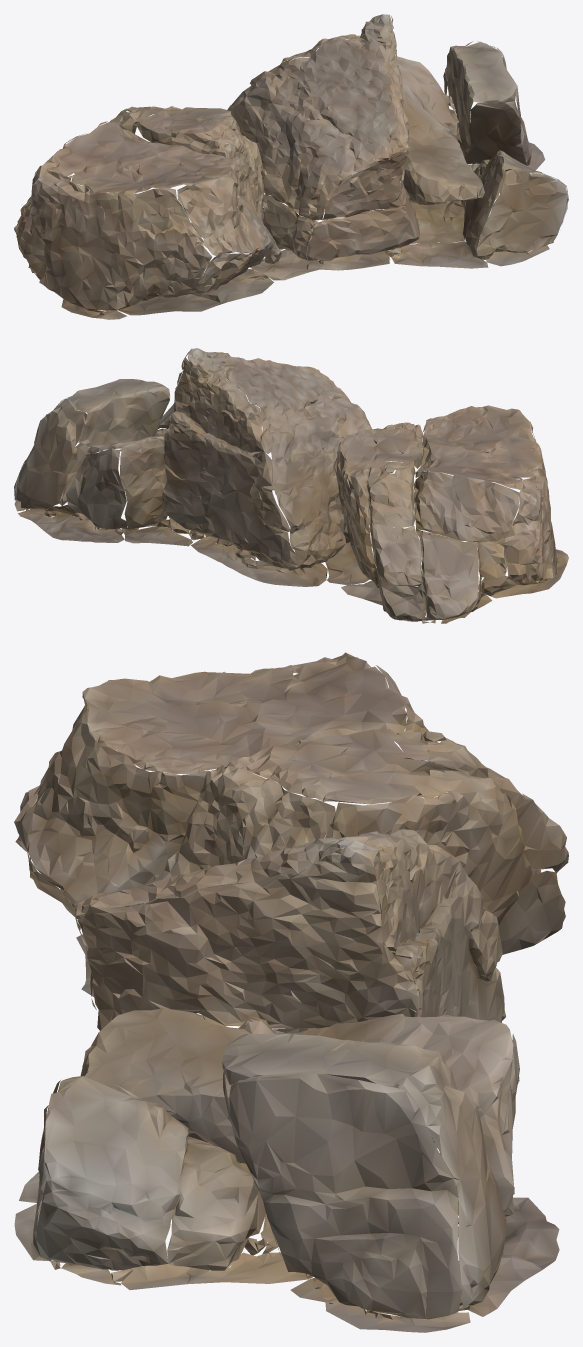
File: namaqualand_boulder_02.glb
The picture shows the model from 3 angles, top to bottom: view 1: azimuth 30°, elevation 25°; view 2: azimuth 150°, elevation 25°; view 3: azimuth 270°, elevation 25°; orthographic projection. The views are drawn at different scales.
Visible parts, largest first — view 1: geometry_0; view 2: geometry_0; view 3: geometry_0.
Boxes of the visible parts, x1,y1,x2,y2 form: geometry_0: (14,14,568,319); geometry_0: (14,348,568,623); geometry_0: (14,652,568,1332).
Bounding box in the file's own units: 2.53 × 0.8766 × 1.23.
